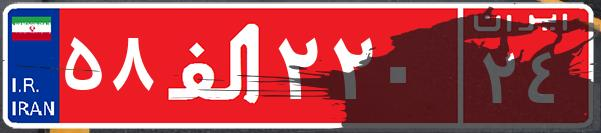0: (385, 28, 445, 110)
2: (273, 28, 330, 110), (330, 28, 385, 110), (475, 38, 525, 113)
4: (525, 38, 570, 115)
5: (57, 26, 110, 107)
8: (110, 28, 158, 105)
الف: (158, 15, 273, 115)
